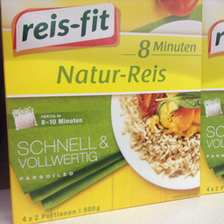rice: (2, 1, 204, 224)
